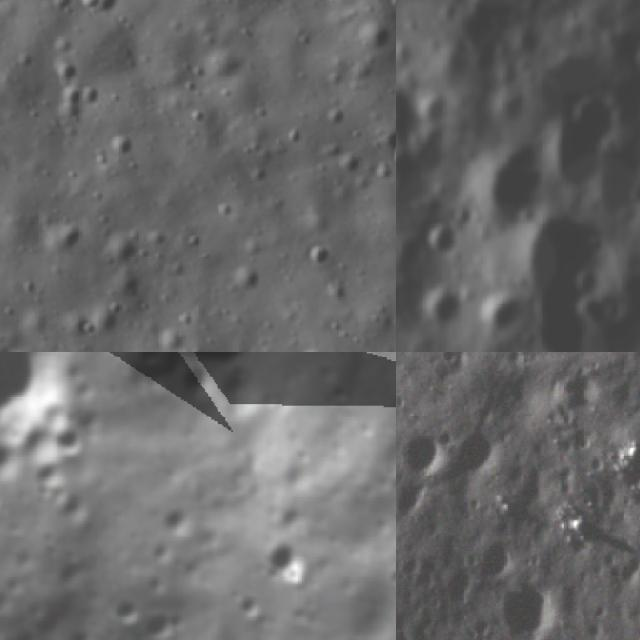crater: (98, 352, 317, 423), (0, 352, 86, 462), (496, 573, 560, 636), (248, 526, 312, 588), (442, 419, 500, 478), (39, 414, 99, 471), (550, 357, 604, 419), (22, 448, 79, 503), (396, 423, 452, 476), (129, 594, 192, 640), (474, 530, 520, 586), (100, 218, 149, 270), (0, 425, 36, 494), (41, 216, 87, 268), (102, 588, 148, 640), (347, 18, 396, 61), (102, 124, 138, 175), (420, 287, 460, 332), (81, 0, 127, 38), (60, 304, 97, 346), (226, 257, 268, 294), (482, 291, 514, 336), (424, 224, 461, 261), (396, 474, 428, 516), (299, 240, 332, 276), (152, 323, 189, 352), (421, 104, 455, 131), (59, 619, 98, 640), (598, 302, 624, 331), (377, 557, 396, 595), (333, 628, 376, 640)
